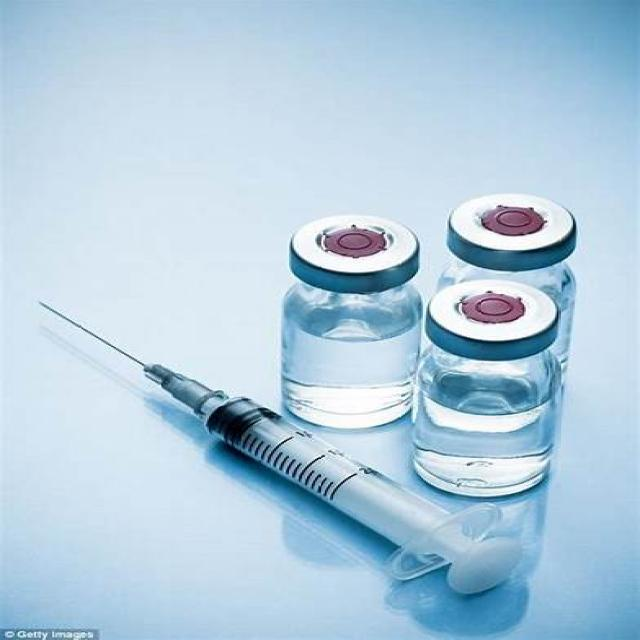vial: (290, 216, 422, 276), (429, 282, 570, 336), (452, 208, 586, 251)
